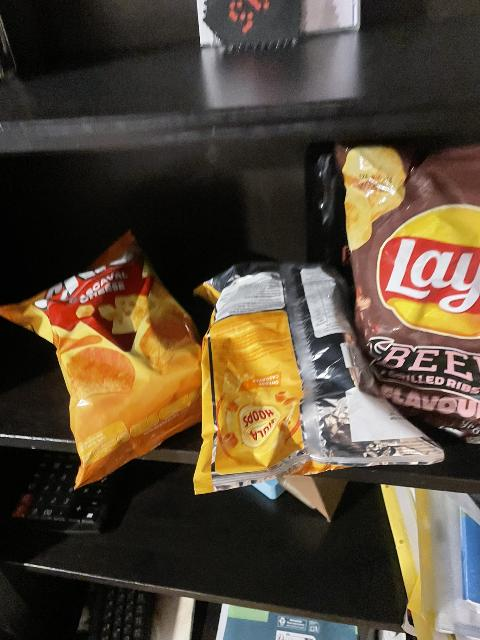Chio Cascaval 125g: (0, 237, 212, 489)
Chio Hula Hoops Cheese 70g: (188, 259, 445, 497)
Lays Beef Grilled Ribs 125g: (343, 143, 480, 424)
